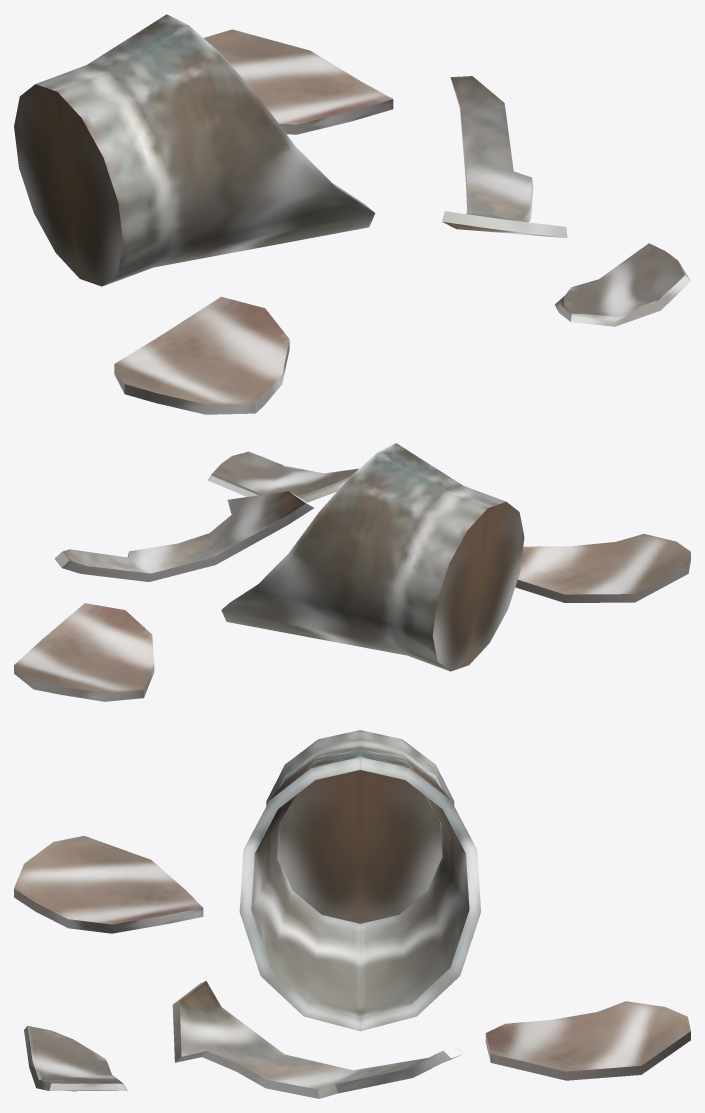
Rendered from TuShuGuan_01_suibeizi_01.FBX.
3 views of the same model, one above another, from view 1: azimuth 30°, elevation 25°; view 2: azimuth 150°, elevation 25°; view 3: azimuth 270°, elevation 25° (orthographic). The views are drawn at different scales.
Visible parts, largest first — view 1: TuShuGuan_01_suibeizi_01; view 2: TuShuGuan_01_suibeizi_01; view 3: TuShuGuan_01_suibeizi_01.
Part boxes in pixels (x1,y1,x2,y2): TuShuGuan_01_suibeizi_01: (14,14,690,414); TuShuGuan_01_suibeizi_01: (14,443,690,701); TuShuGuan_01_suibeizi_01: (14,730,690,1098).
Bounding box in the file's own units: 108 × 41.9 × 125.
